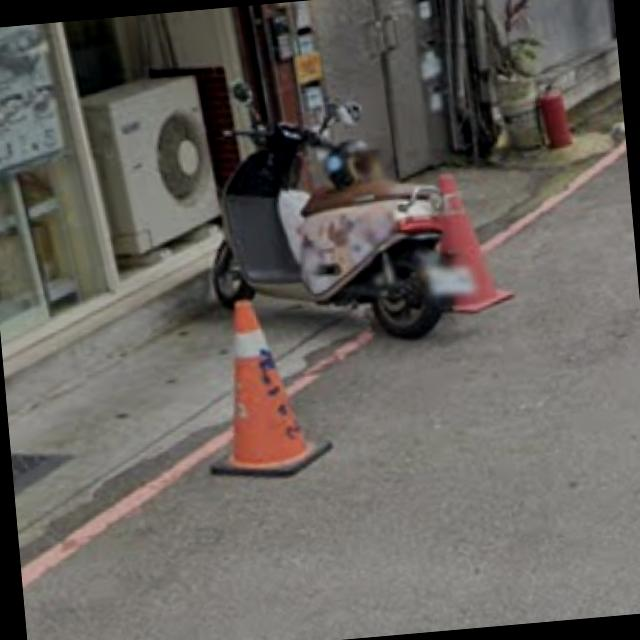cone: (211, 285, 312, 478), (436, 158, 514, 315)
